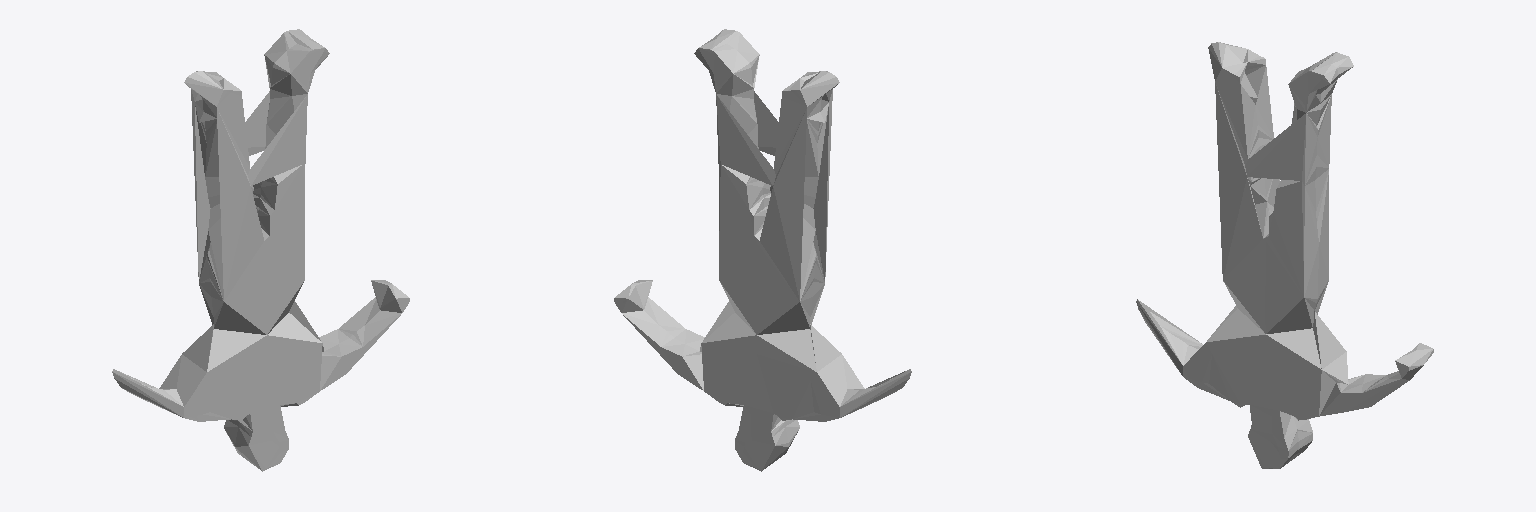
Rendered from guilherme.obj.
3 renders of one model, left to right at view 1: azimuth 30°, elevation 25°; view 2: azimuth 150°, elevation 25°; view 3: azimuth 330°, elevation 25°, orthographic.
Parts seen in each view (by area): view 1: grp1; view 2: grp1; view 3: grp1.
Part boxes in pixels (left/top/right/bottom): grp1: left=112, top=29, right=409, bottom=471; grp1: left=614, top=29, right=911, bottom=471; grp1: left=1136, top=42, right=1433, bottom=468.
Bounding box in the file's own units: 371 × 505 × 61.69.